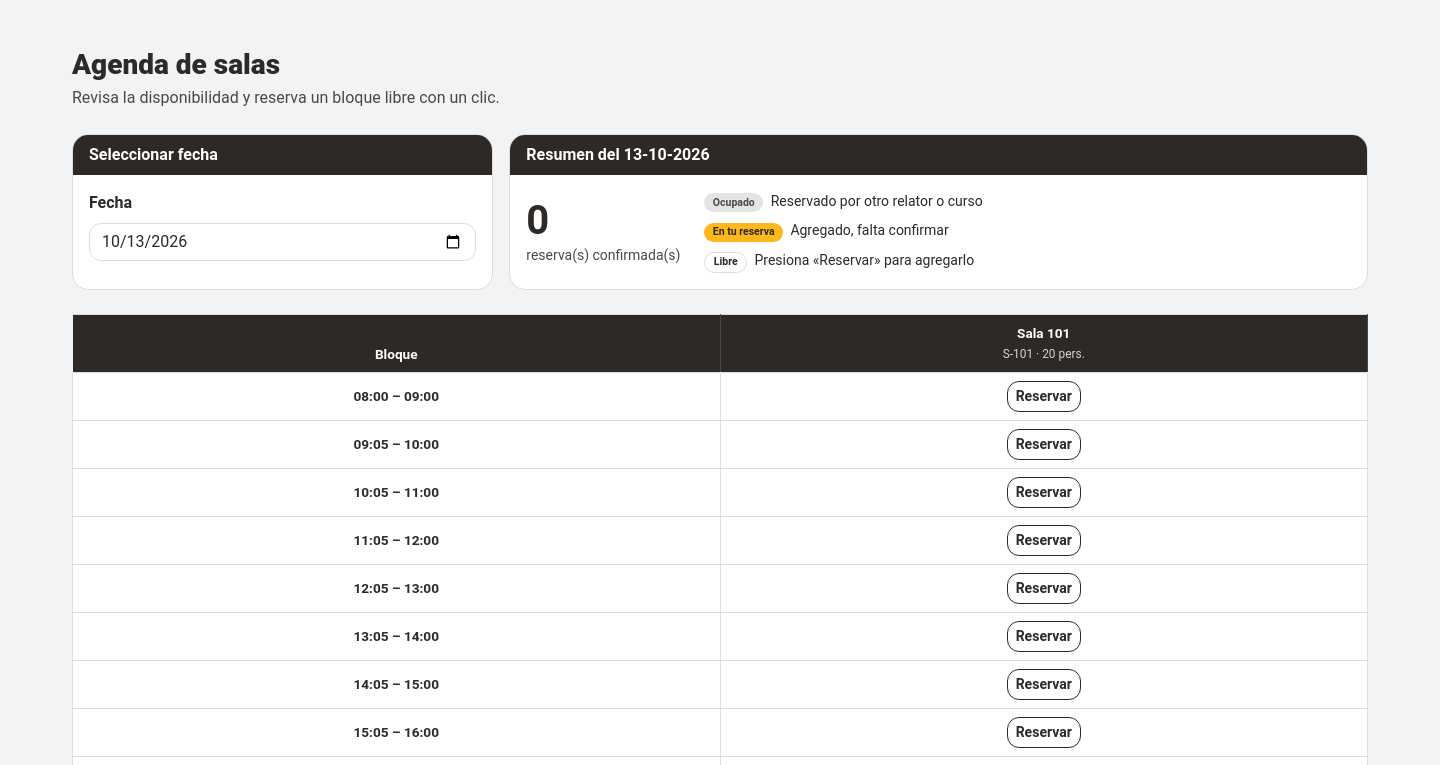
Test: Página Agenda › al presionar "Reservar" agrega el bloque al borrador con el relator logeado
The width and height of the screenshot is (1440, 765).
Click the button with aria-label "Reservar Sala 101 de 08:00 a 09:00": (1044, 396) [1007, 381, 1081, 412]
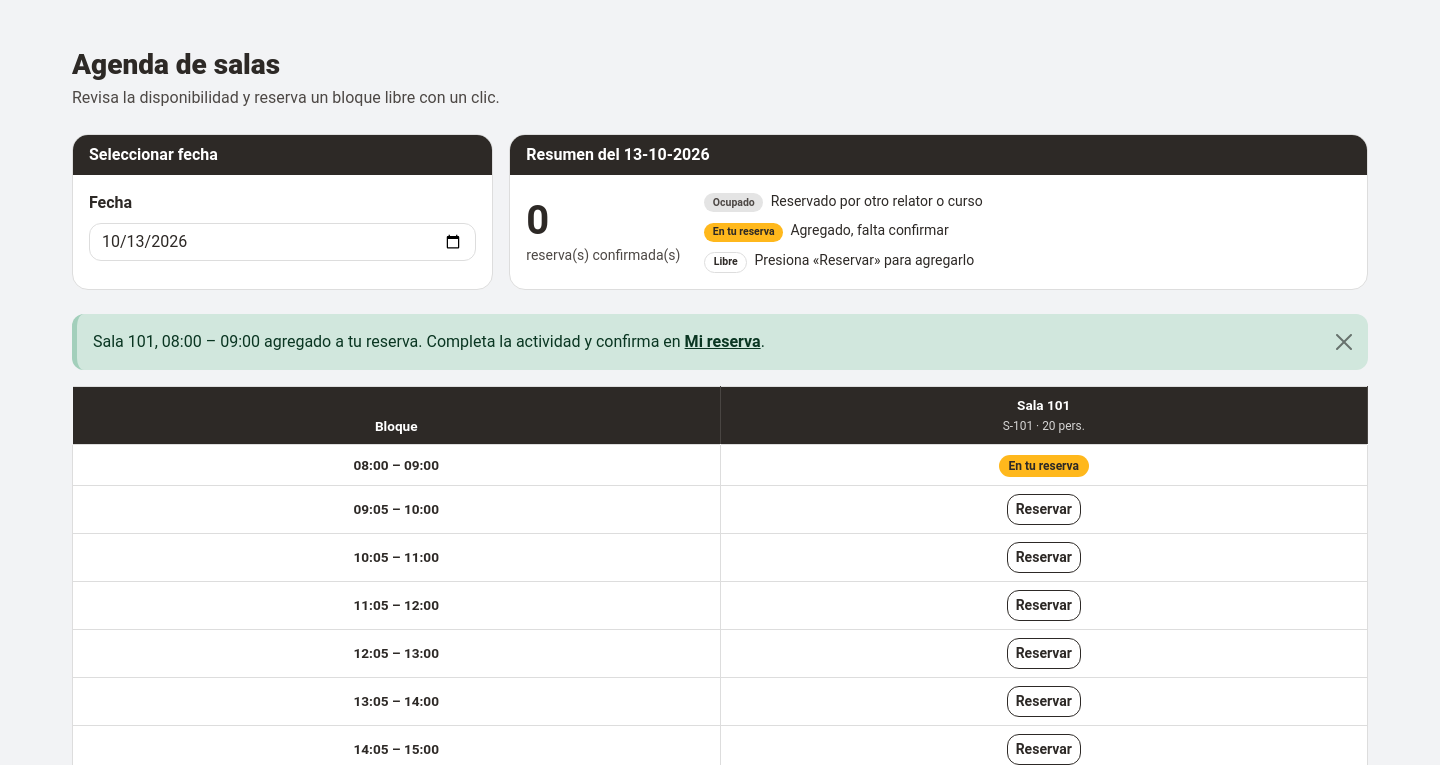
Check: the text "En tu reserva" below "S-101" is shown, box [1008, 459, 1079, 473]
